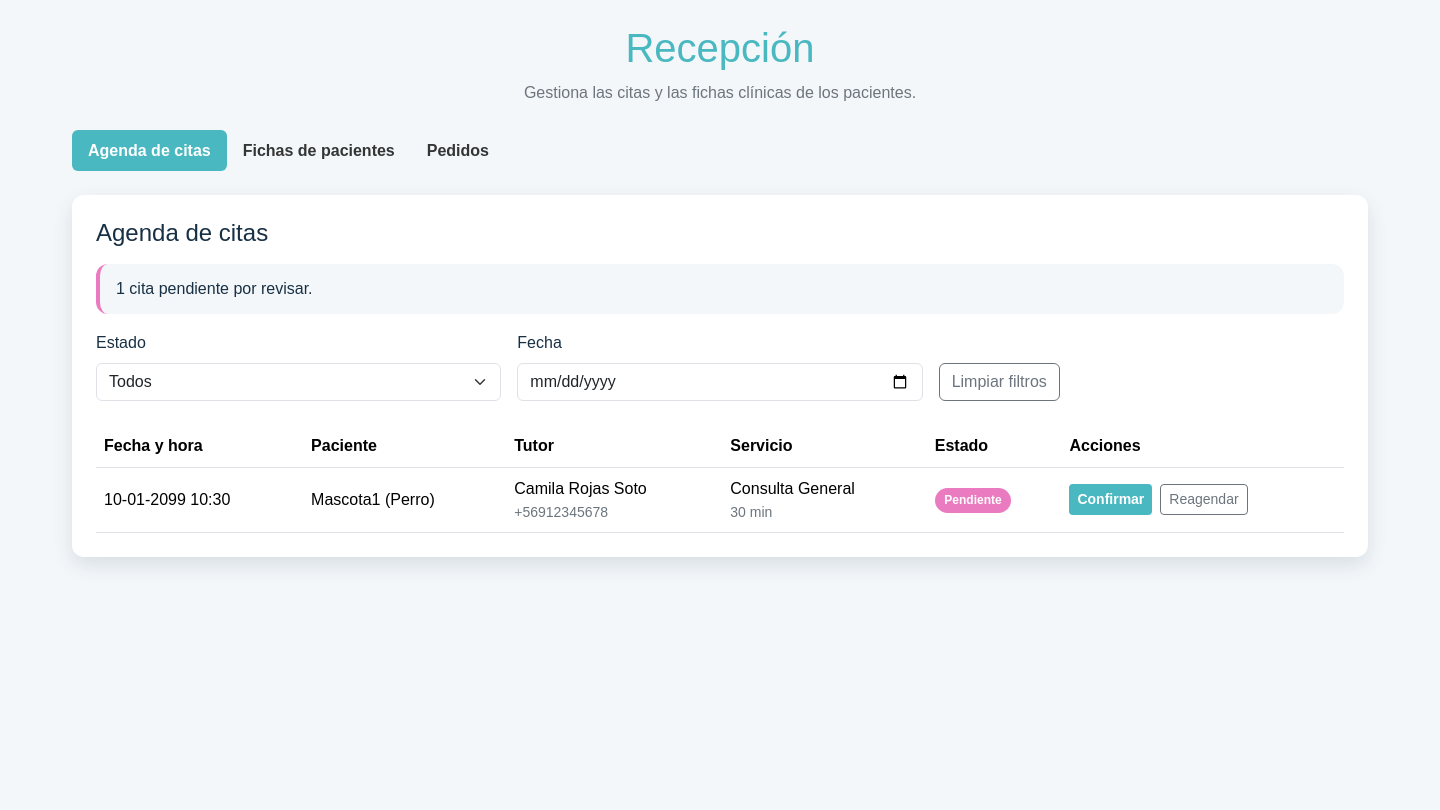
Scenario: AgendaCitas › errores del servicio de citas › si falla al confirmar, muestra el motivo y la cita sigue pendiente
The image size is (1440, 810).
What coordinates should you click on to do the following:
click the button "Confirmar"
I would click on:
 (1111, 500)
Its box is top-left (1069, 484), bottom-right (1152, 515).
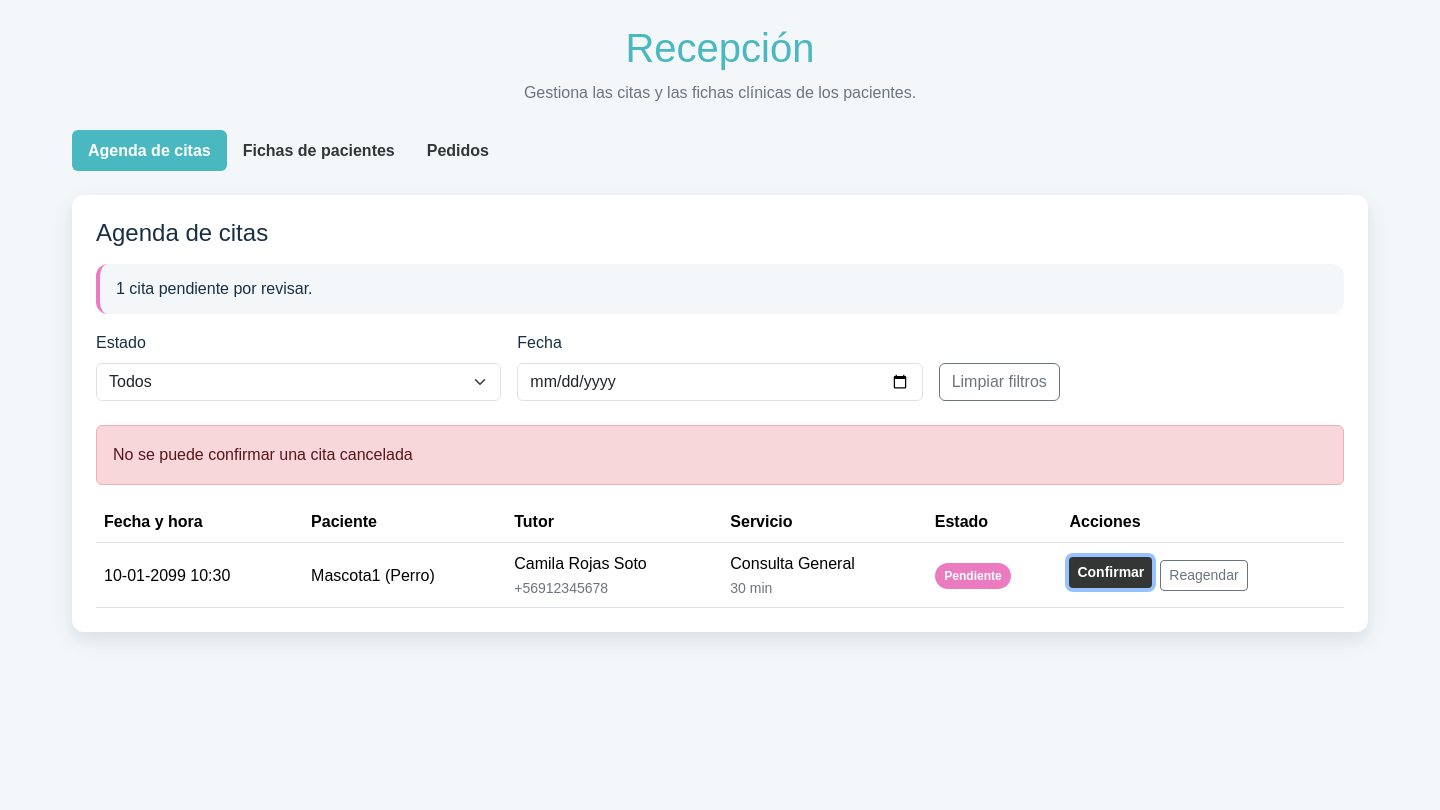
Expected: the text "Pendiente" is shown, top-left (935, 564), bottom-right (1011, 589)
Result: the text "No se puede confirmar una cita cancelada" is shown at top-left (96, 425), bottom-right (1344, 485)
